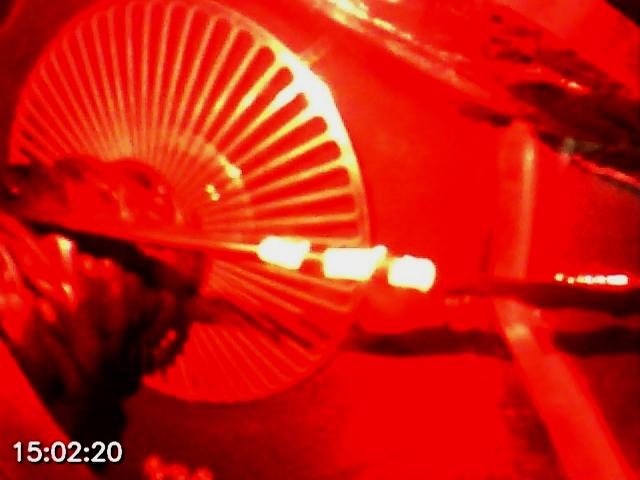white-dots: (257, 234, 436, 291)
